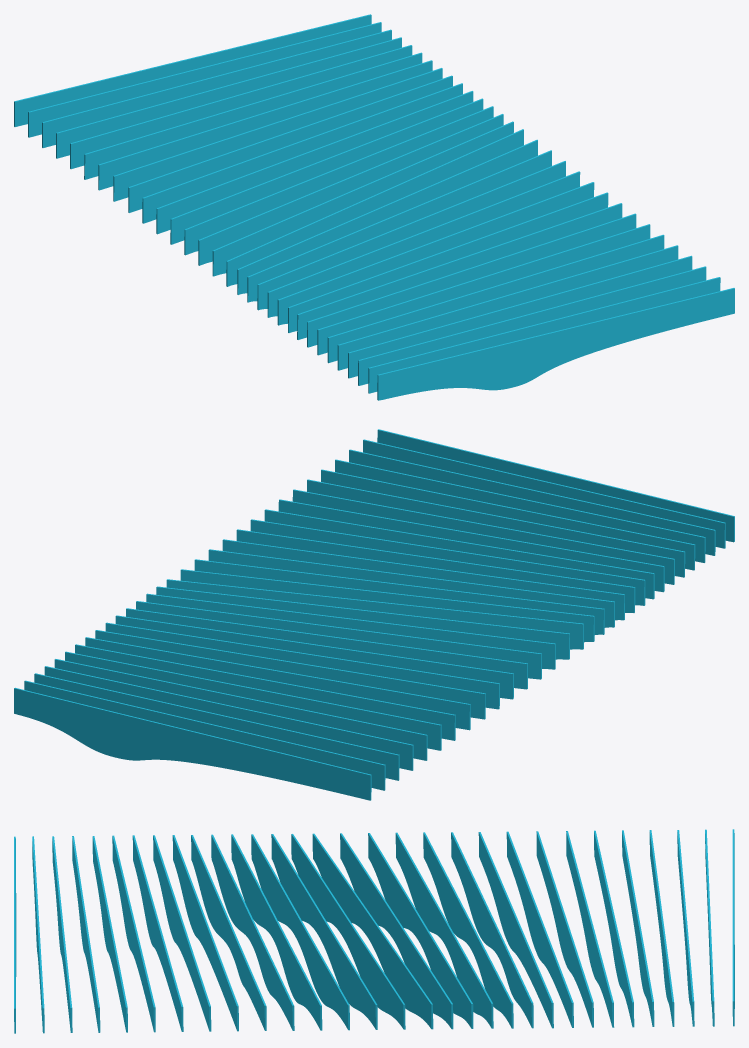
Rendered from acoustic_studio_ceiling.glb.
The picture shows the model from 3 angles, top to bottom: view 1: azimuth 30°, elevation 25°; view 2: azimuth 150°, elevation 25°; view 3: azimuth 270°, elevation 25°; orthographic projection.
Parts seen in each view (by area): view 1: Object_3; view 2: Object_3; view 3: Object_3.
Part boxes in pixels (x1=…): Object_3: x1=14, y1=14, x2=734, y2=400; Object_3: x1=14, y1=429, x2=734, y2=800; Object_3: x1=14, y1=829, x2=734, y2=1033.
Size of the model in its own units: 4.25 by 0.6004 by 7.53.
